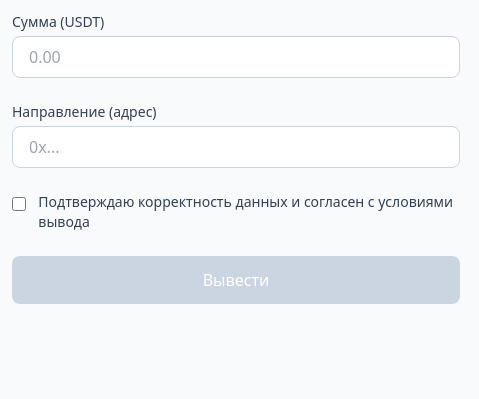
Test: WithdrawForm › API error: shows error message and keeps form data
The image size is (479, 399).
In the field labelled "Сумма (USDT)": (236, 57) [12,36,460,78], type "50"
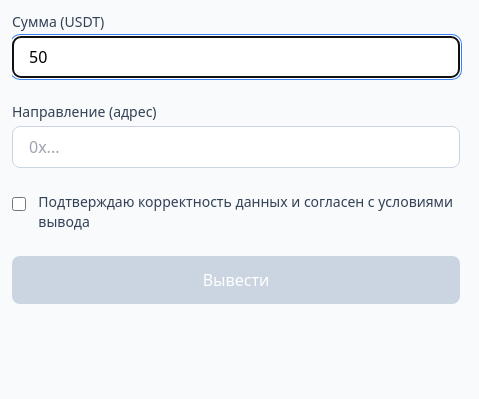
In the field labelled "Направление (адрес)": (236, 147) [12,126,460,168], type "0xdef"
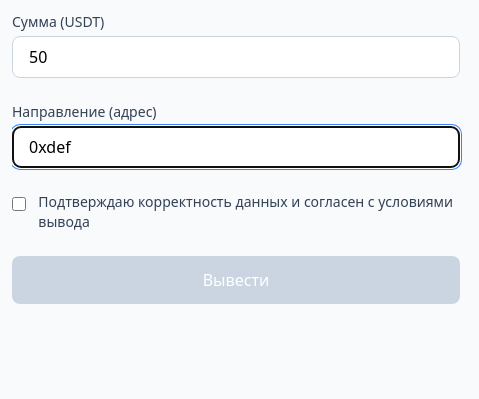
Click the checkbox labelled "Подтверждаю": click(19, 204) [12,196,26,212]
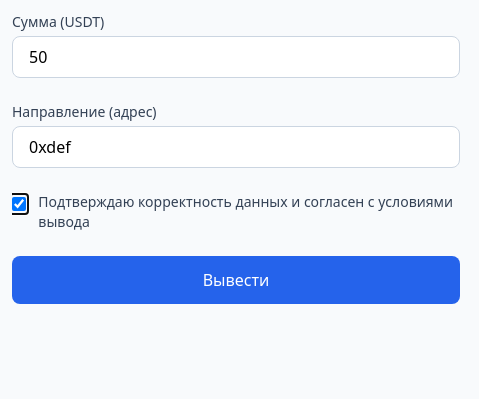
Click the button "Вывести": click(236, 280) [12,256,460,304]
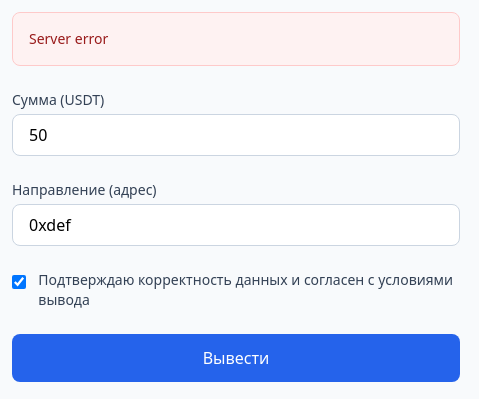
Expected: the message "Server error" is shown, [12,12,460,66]
